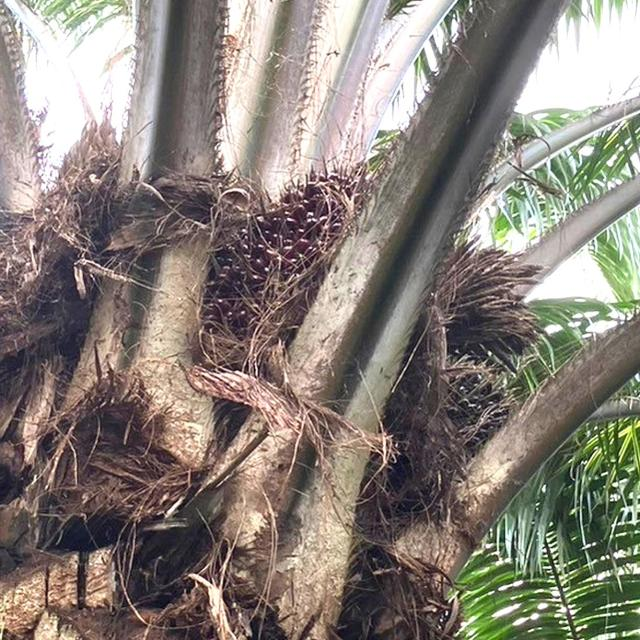ripe: (196, 149, 390, 376)
